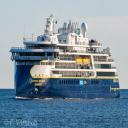cruises: (9, 12, 122, 101)
